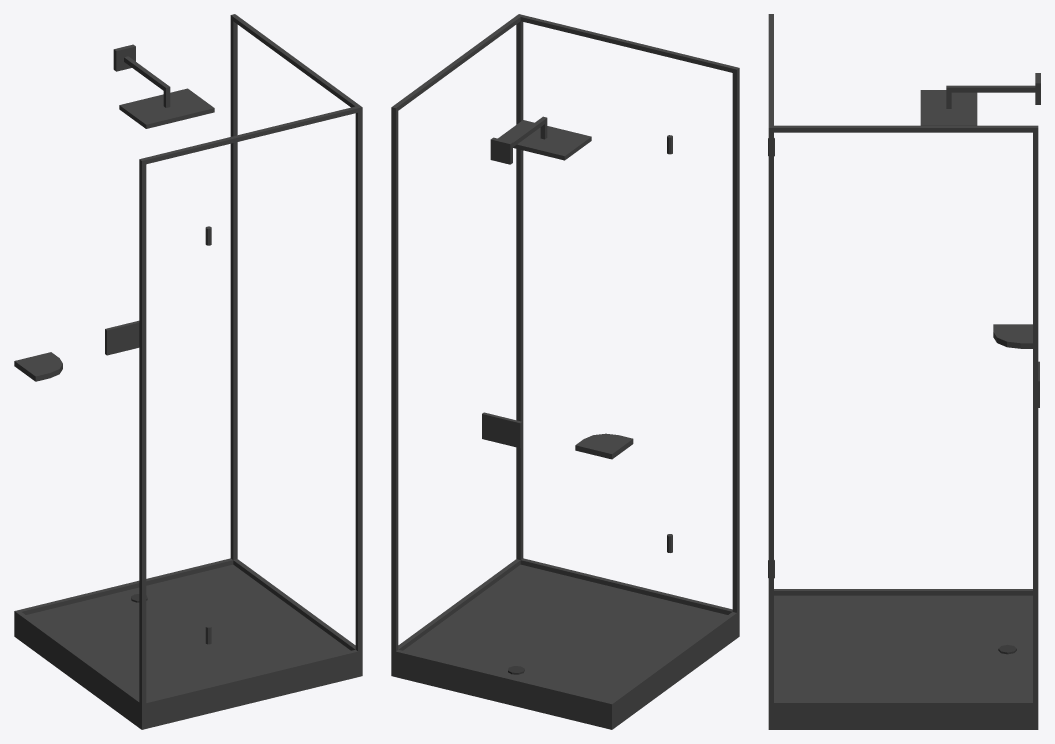
Rendered from Shower1_C2_01.fbx.
3 views of the same model, side by side, from view 1: azimuth 30°, elevation 25°; view 2: azimuth 150°, elevation 25°; view 3: azimuth 270°, elevation 25° (orthographic). The views are drawn at different scales.
Parts seen in each view (by area): view 1: Shower1_C2_01; view 2: Shower1_C2_01; view 3: Shower1_C2_01.
Boxes of the visible parts, x1,y1,x2,y2 form: Shower1_C2_01: [14, 14, 362, 729]; Shower1_C2_01: [391, 14, 739, 729]; Shower1_C2_01: [768, 14, 1040, 729].
Bounding box in the file's own units: 90 × 222 × 91.03.
